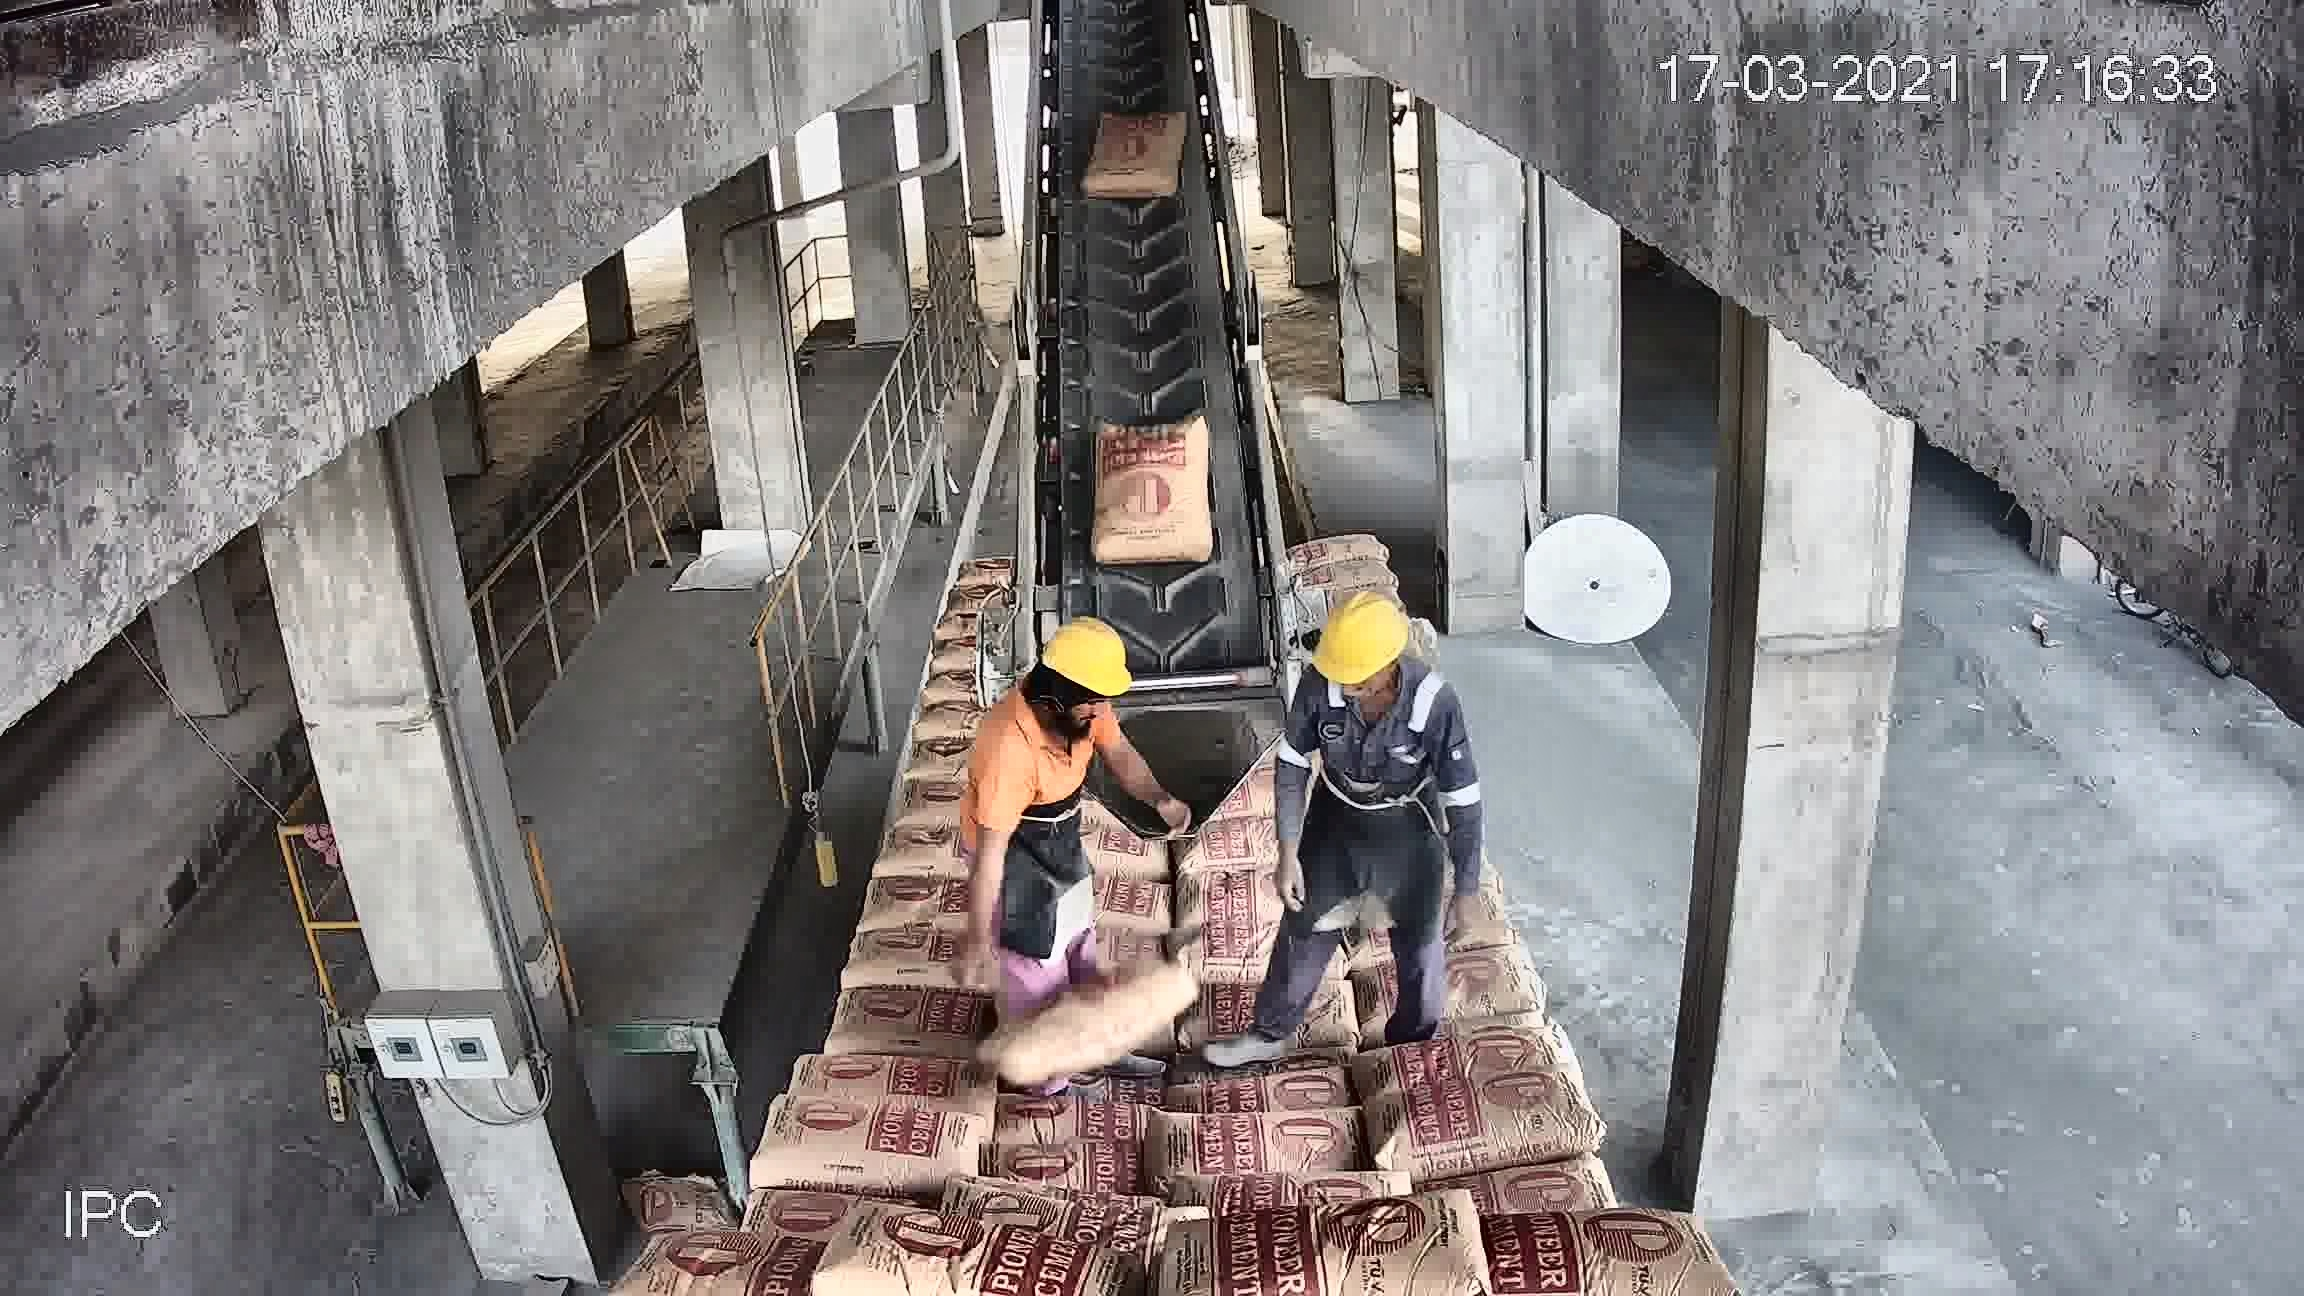bag: (1090, 427, 1217, 567), (1079, 111, 1182, 195)
bag_h: (1192, 1177, 1532, 1294), (972, 953, 1185, 1086), (794, 1215, 1135, 1296), (1432, 1203, 1700, 1296), (1374, 1074, 1586, 1188), (752, 1097, 997, 1195), (1155, 1100, 1370, 1188), (1180, 1033, 1366, 1116), (636, 1228, 845, 1294), (1347, 1032, 1576, 1092), (834, 976, 987, 1059), (780, 1059, 984, 1109), (983, 1097, 1154, 1157), (839, 930, 984, 994), (991, 1138, 1146, 1188), (869, 823, 978, 878), (856, 872, 970, 923), (1285, 533, 1397, 571), (1301, 557, 1402, 597)
belt: (1006, 63, 1290, 783)
